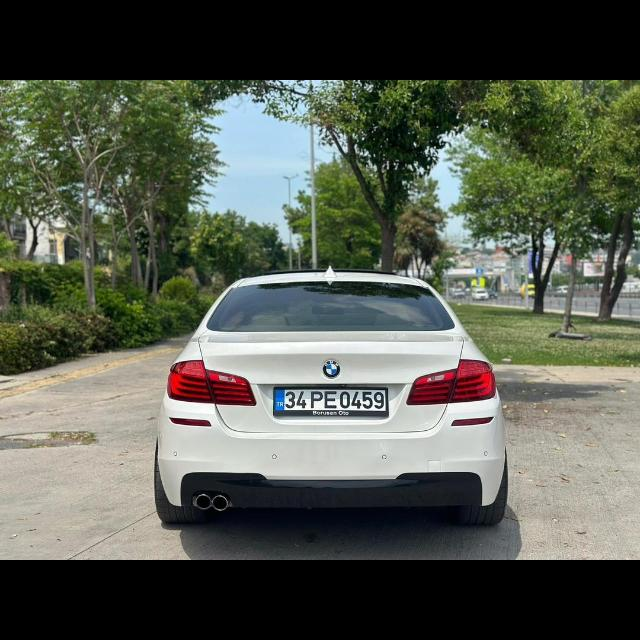Plaka: (278, 389, 390, 411)
